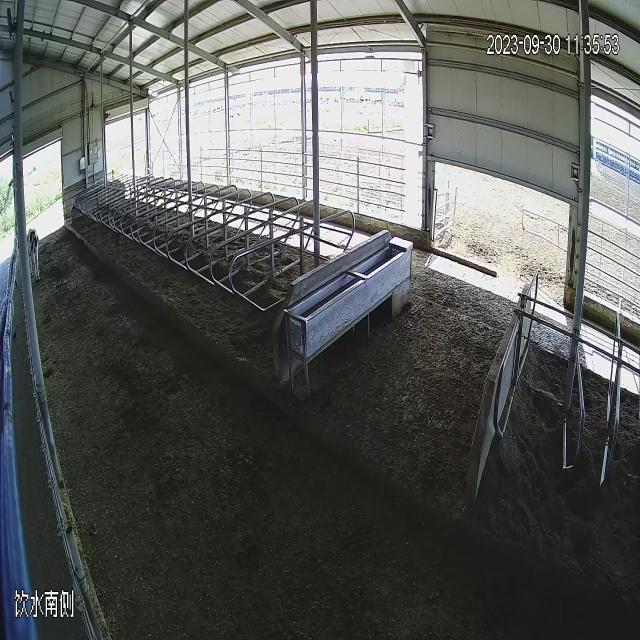standing: (16, 214, 46, 288)
